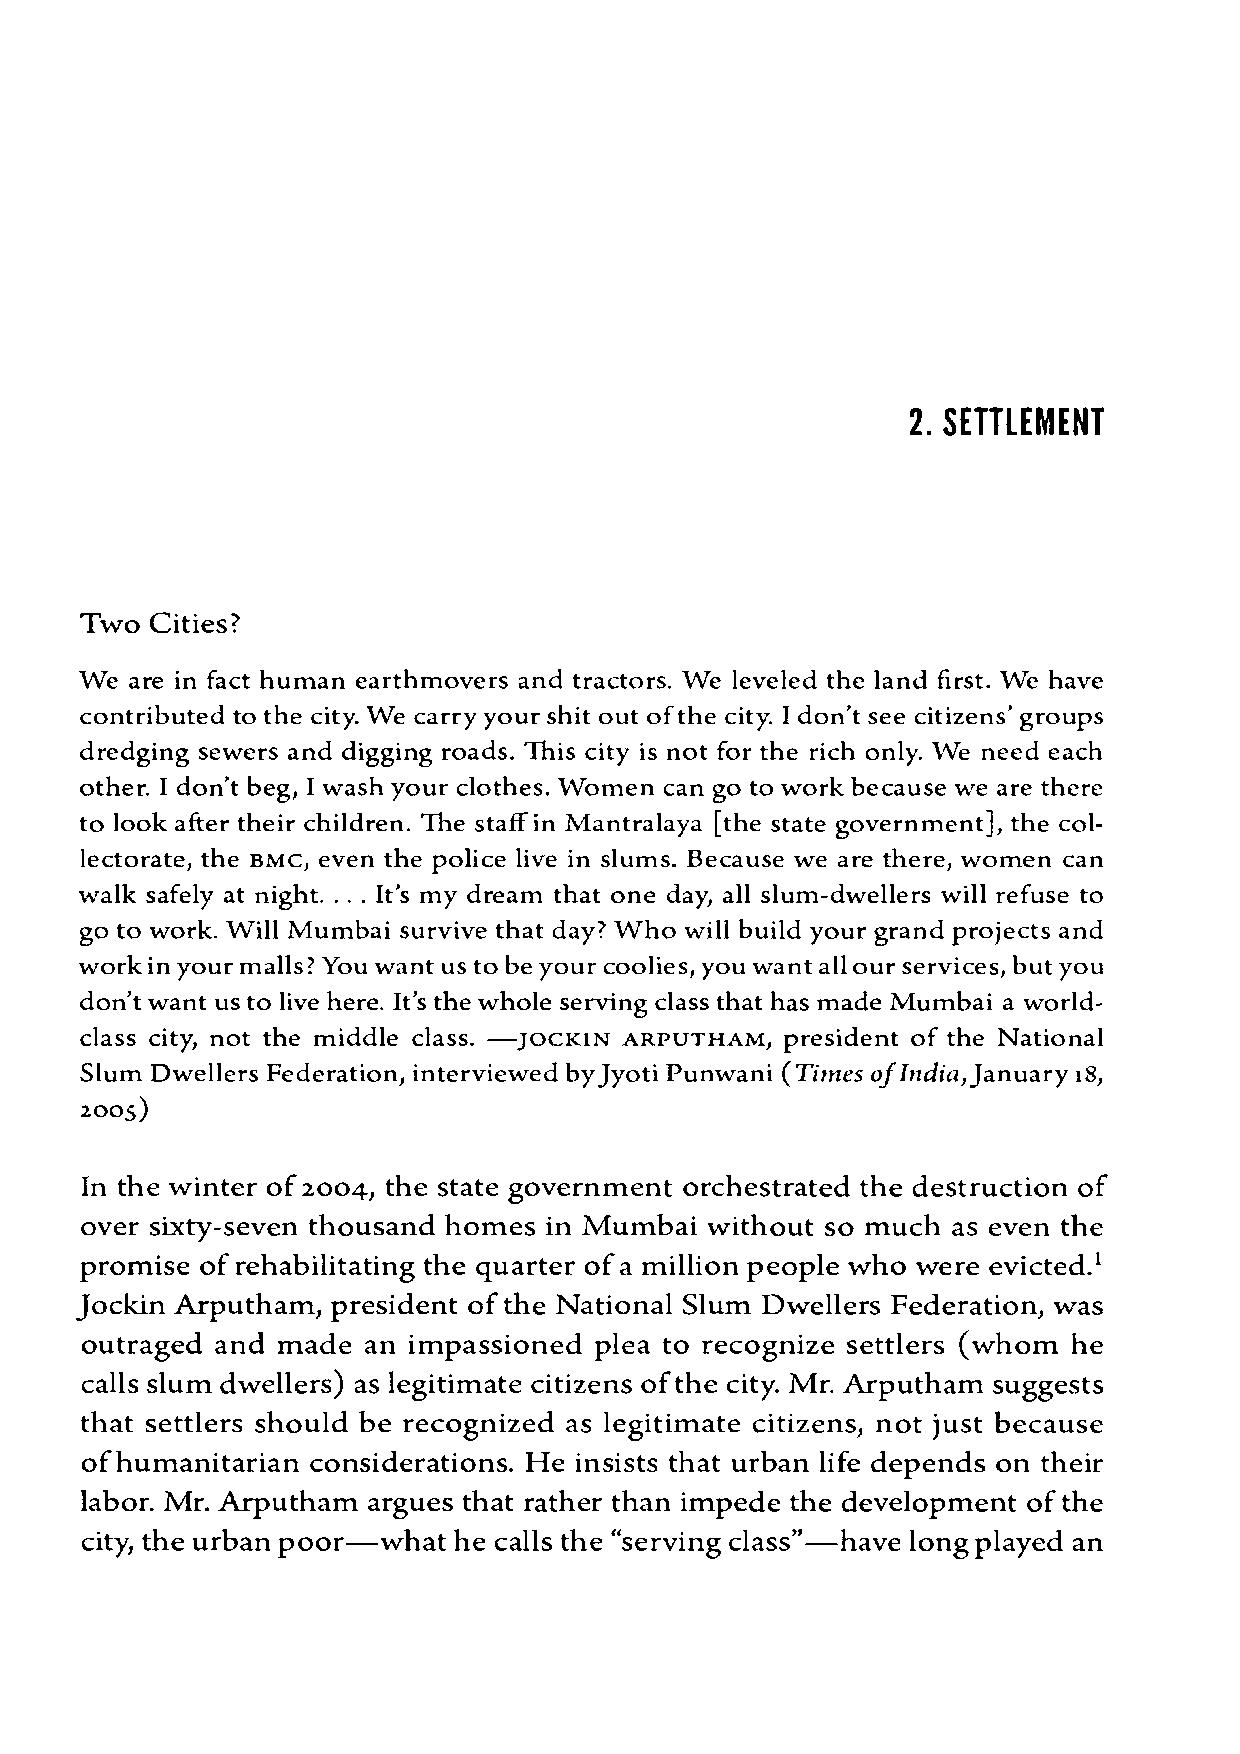chapter: (905, 403, 1106, 440), (76, 605, 242, 637)
content: (74, 663, 1107, 1563)
